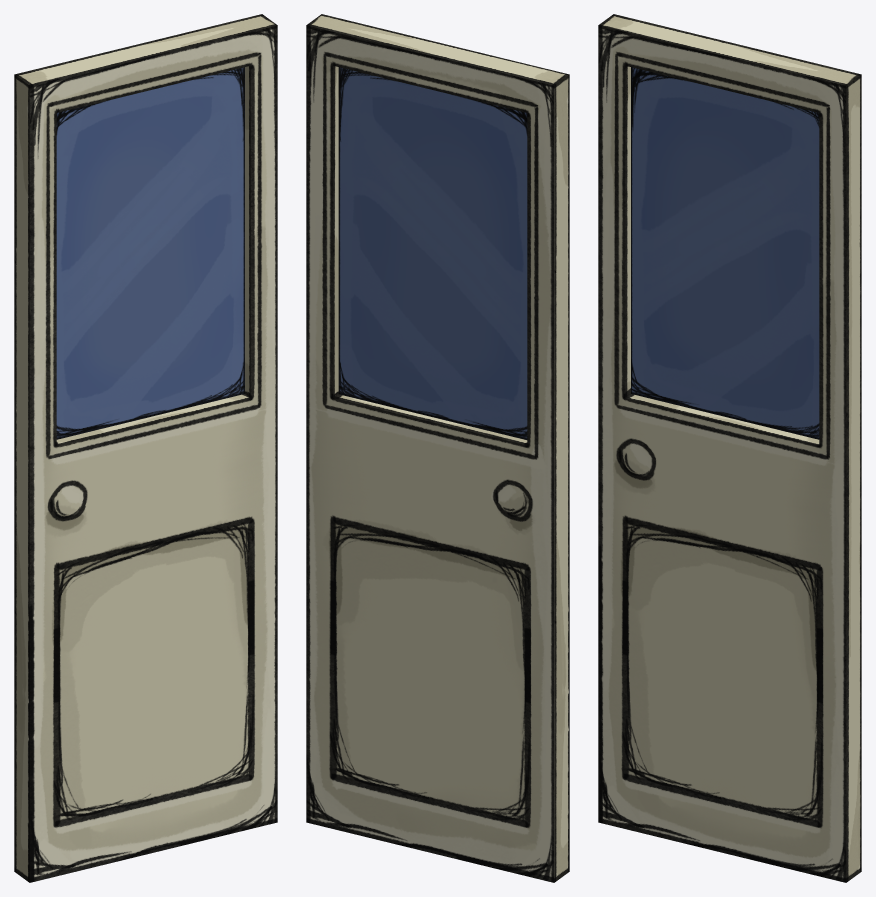
File: door_balcony.fbx
3 views of the same model, side by side, from view 1: azimuth 30°, elevation 25°; view 2: azimuth 150°, elevation 25°; view 3: azimuth 330°, elevation 25° (orthographic).
Visible parts, largest first — view 1: door_balcony, door_balcony_window; view 2: door_balcony, door_balcony_window; view 3: door_balcony, door_balcony_window.
Boxes of the visible parts, box(x1,y1,x2,y2) form: door_balcony: box(14, 14, 277, 882); door_balcony_window: box(56, 67, 244, 439); door_balcony: box(306, 14, 569, 882); door_balcony_window: box(338, 67, 527, 439); door_balcony: box(598, 14, 861, 882); door_balcony_window: box(631, 67, 819, 439).
Bounding box in the file's own units: 1.05 × 3.24 × 0.1135.
Materials: 2 (2 with a texture image).
